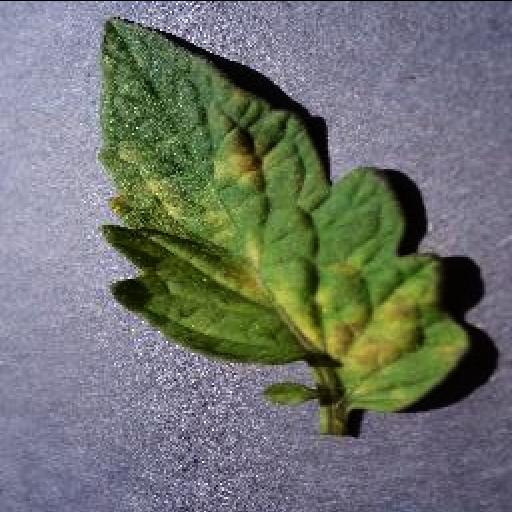disease_tomato: (98, 16, 470, 413)
